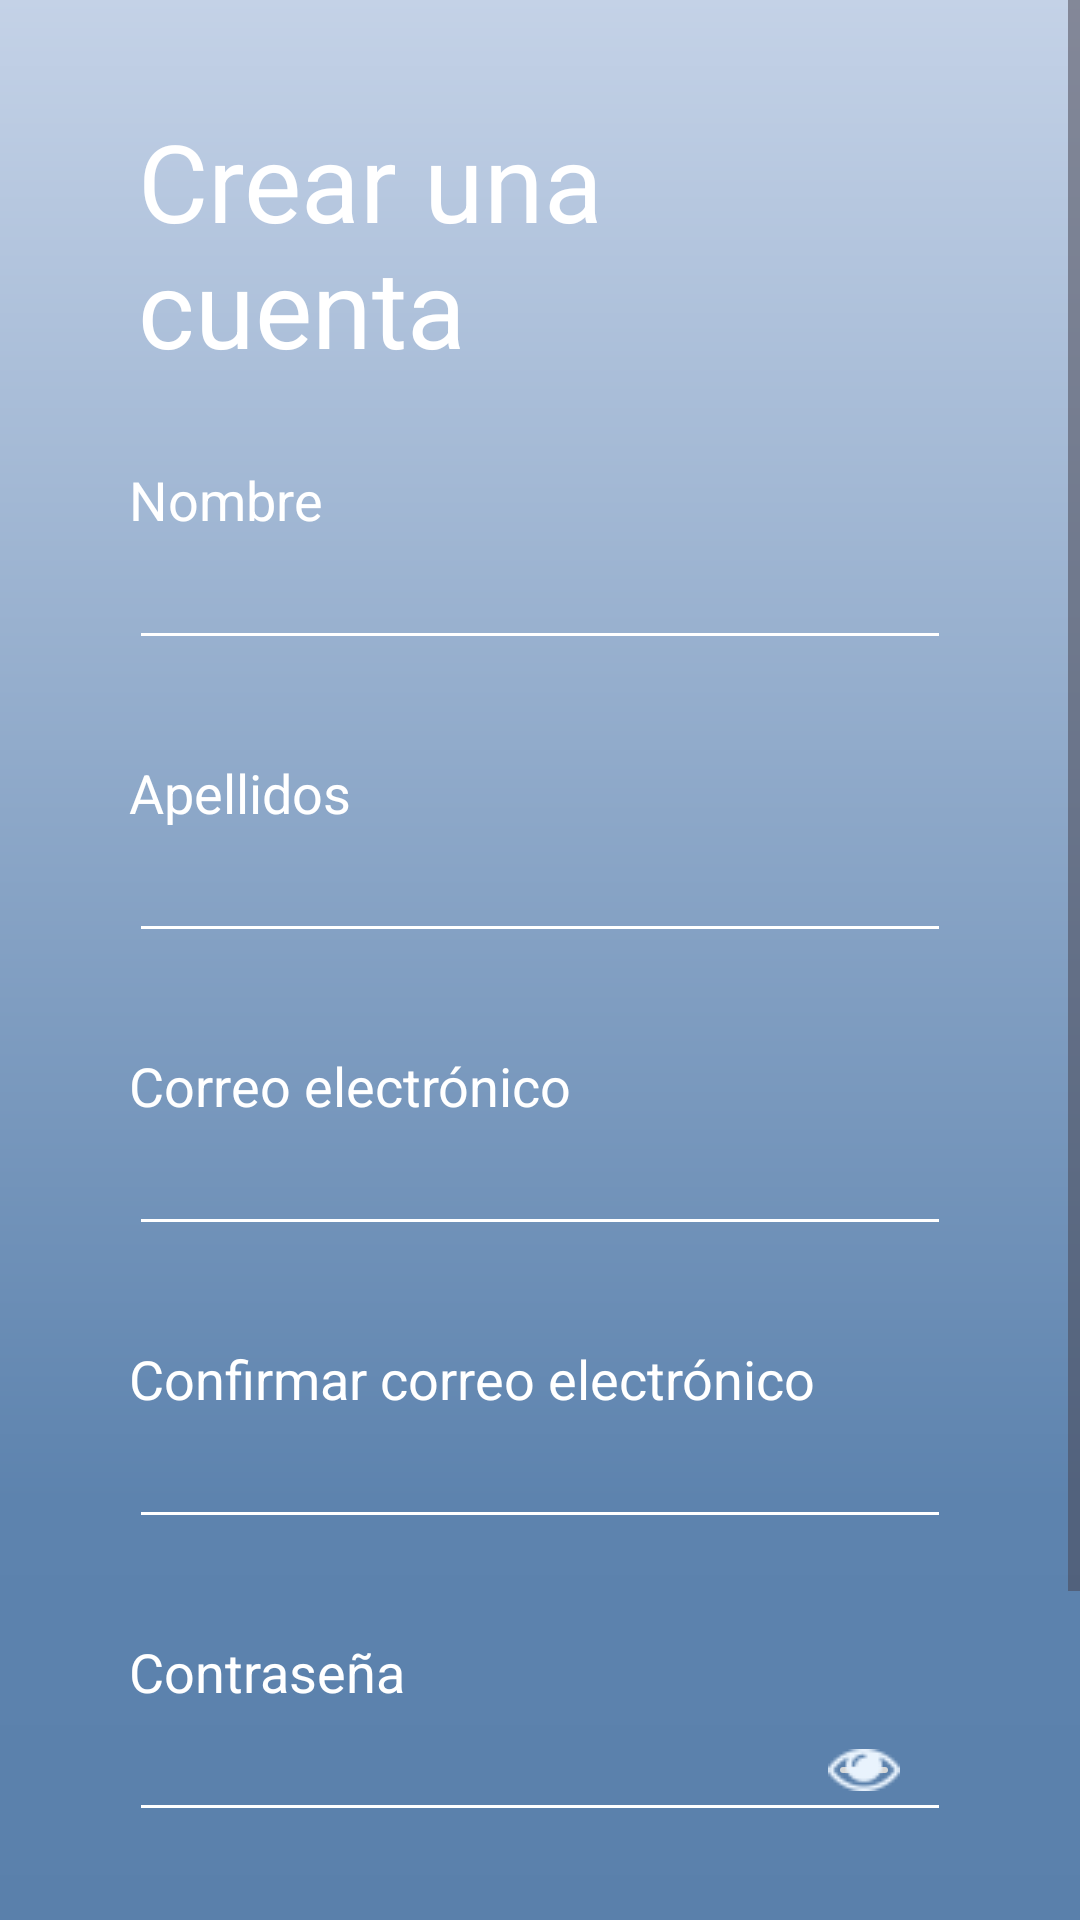

Locate icon controls on the screen. Image size 1080px x 1920px, boxes as (x1,y1,x2,y2).
ojopassword: (828,1749,900,1791)
